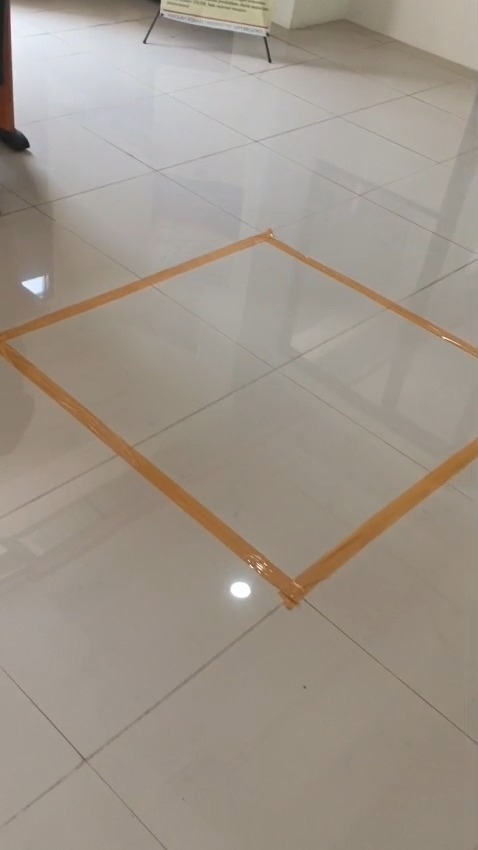floor marking: (0, 230, 477, 608)
